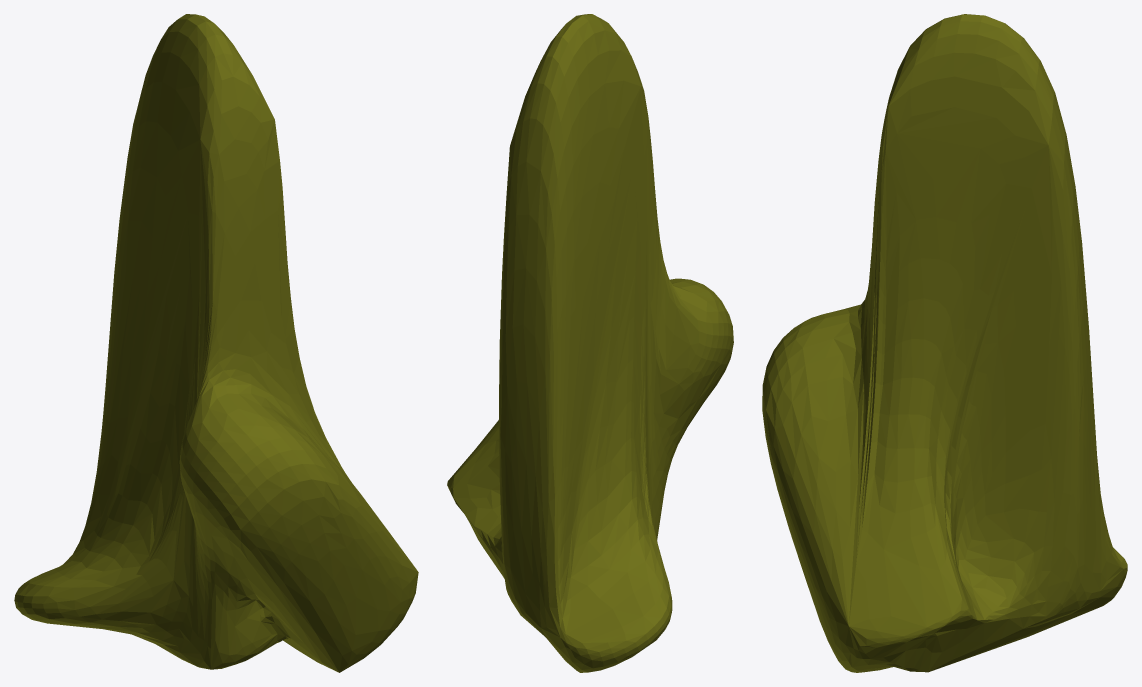
3 renders of one model, left to right at view 1: azimuth 30°, elevation 25°; view 2: azimuth 150°, elevation 25°; view 3: azimuth 270°, elevation 25°, orthographic. The views are drawn at different scales.
Parts seen in each view (by area): view 1: 044_Cube.182; view 2: 044_Cube.182; view 3: 044_Cube.182.
Boxes of the visible parts, bbox=[...] form: 044_Cube.182: bbox=[14, 14, 418, 672]; 044_Cube.182: bbox=[447, 14, 733, 672]; 044_Cube.182: bbox=[762, 14, 1127, 672].
Size of the model in its own units: 5.53 by 11.3 by 5.99.
